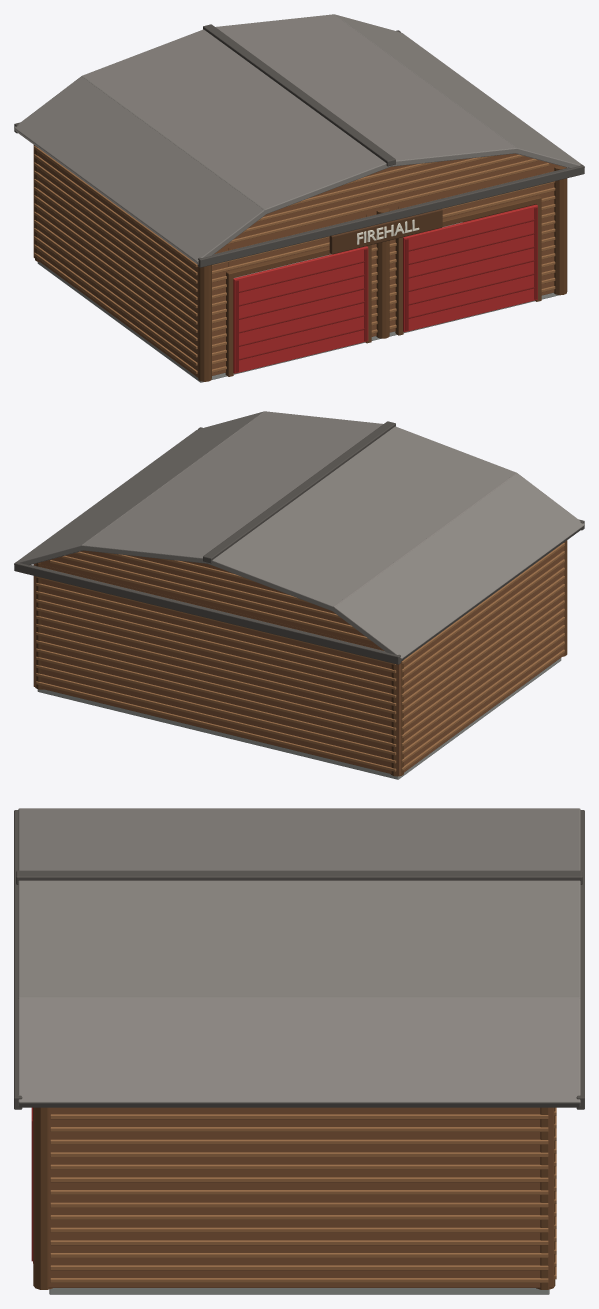
Rendered from CanadaWoodFireHall.glb.
3 views of the same model, one above another, from view 1: azimuth 30°, elevation 25°; view 2: azimuth 150°, elevation 25°; view 3: azimuth 270°, elevation 25° (orthographic). The views are drawn at different scales.
Visible parts, largest first — view 1: Firehall_StaticMesh, GarageDoor_Left_Mesh, GarageDoor_Right_Mesh; view 2: Firehall_StaticMesh; view 3: Firehall_StaticMesh.
Part boxes in pixels (box(x1,y1,x2,y2)): Firehall_StaticMesh: box(14, 14, 584, 382); GarageDoor_Left_Mesh: box(233, 246, 368, 373); GarageDoor_Right_Mesh: box(403, 204, 537, 332); Firehall_StaticMesh: box(14, 411, 584, 779); Firehall_StaticMesh: box(14, 808, 584, 1294).
Size of the model in its own units: 14.86 by 6.83 by 12.34.
